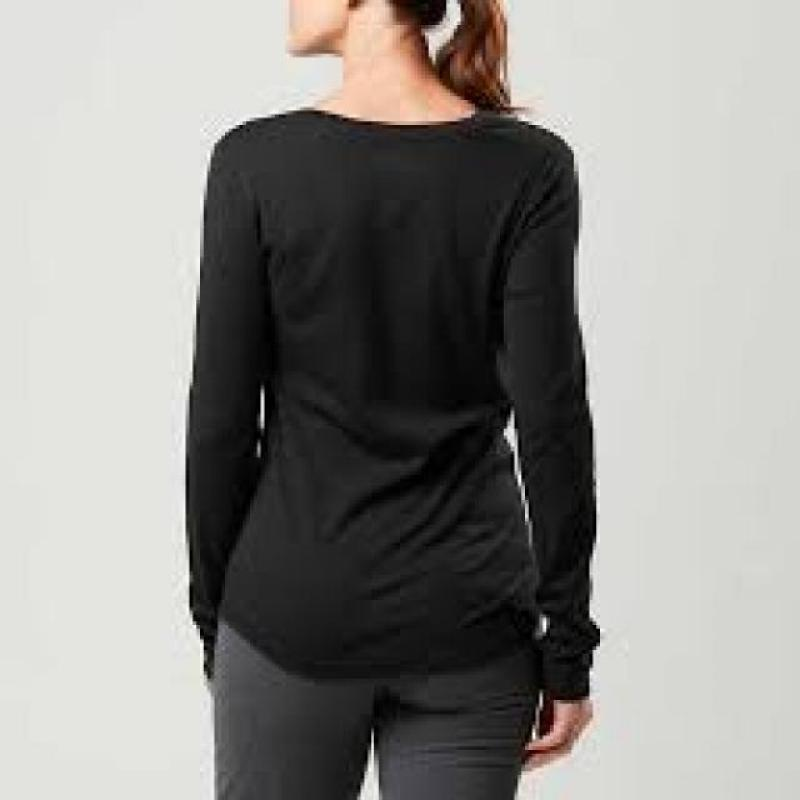long sleeve shirt: (186, 106, 603, 703)
trousers: (210, 616, 542, 800)
